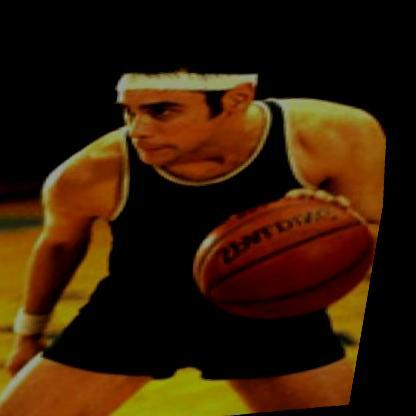basketball: (185, 179, 393, 329)
